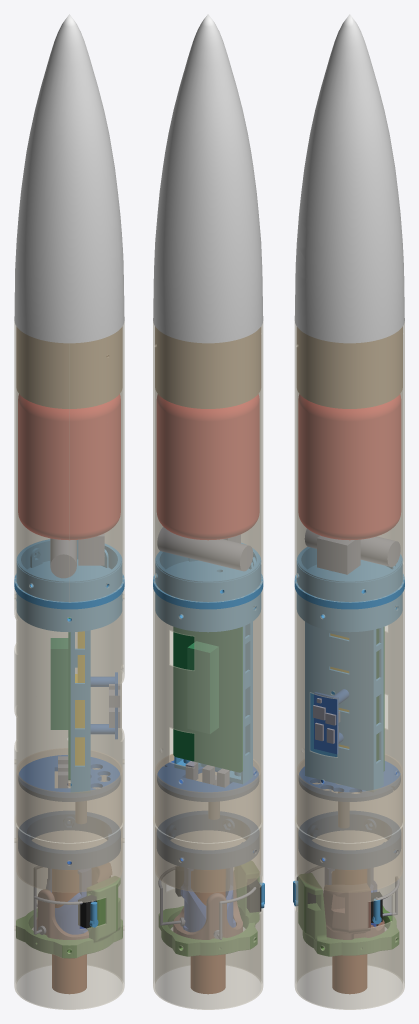
File: Kartonaut1_Stand2b.glb
3 renders of one model, left to right at view 1: azimuth 90°, elevation 25°; view 2: azimuth 150°, elevation 25°; view 3: azimuth 330°, elevation 25°, orthographic.
Visible parts, largest first — view 1: 02 Rohr C (Bergung), 34 Spitze Klima 8539, 01 Rohr B 176 (Avionik), 00 Rohr A 125 (Kardan, gebaut), 31 Fallschirm (gepackt 100 Ã Ã 70), 03 Kuppler J1 75 (in B verklebt), 13 Schlitten mit Spant, 32 Spitze Schulter (Klima), 04 Schraubring J1, Kardan gedruckt: Outer_Gimbal_1.001, 14 Untere Scheibe, 06 Motor TSP E12-0 (+10 smaller); view 2: 02 Rohr C (Bergung), 34 Spitze Klima 8539, 01 Rohr B 176 (Avionik), 00 Rohr A 125 (Kardan, gebaut), 31 Fallschirm (gepackt 100 Ã Ã 70), 03 Kuppler J1 75 (in B verklebt), 13 Schlitten mit Spant, 32 Spitze Schulter (Klima), 21 Platine rev B1, 04 Schraubring J1, Kardan gedruckt: Outer_Gimbal_1.001, 22 Teensy 4.1 (+6 smaller); view 3: 02 Rohr C (Bergung), 34 Spitze Klima 8539, 01 Rohr B 176 (Avionik), 00 Rohr A 125 (Kardan, gebaut), 13 Schlitten mit Spant, 31 Fallschirm (gepackt 100 Ã Ã 70), 03 Kuppler J1 75 (in B verklebt), 32 Spitze Schulter (Klima), 04 Schraubring J1, Kardan gedruckt: Outer_Gimbal_1.001, Kardan gedruckt: Inner_Gimbal.002, 30 COâ-Modul (Kapsel quer, Servo-AuslÃ¶sung) (+4 smaller).
Boxes of the visible parts, left/top/right/bottom form: 02 Rohr C (Bergung): left=14, top=321, right=124, bottom=602; 34 Spitze Klima 8539: left=14, top=14, right=124, bottom=343; 01 Rohr B 176 (Avionik): left=14, top=587, right=124, bottom=843; 00 Rohr A 125 (Kardan, gebaut): left=14, top=816, right=124, bottom=1009; 31 Fallschirm (gepackt 100 Ã Ã 70): left=18, top=394, right=120, bottom=539; 03 Kuppler J1 75 (in B verklebt): left=16, top=748, right=122, bottom=892; 13 Schlitten mit Spant: left=14, top=539, right=124, bottom=792; 32 Spitze Schulter (Klima): left=16, top=327, right=122, bottom=408; 04 Schraubring J1: left=18, top=811, right=120, bottom=869; Kardan gedruckt: Outer_Gimbal_1.001: left=16, top=876, right=122, bottom=958; 14 Untere Scheibe: left=19, top=755, right=119, bottom=801; 06 Motor TSP E12-0: left=52, top=869, right=86, bottom=993; 02 Rohr C (Bergung): left=153, top=321, right=263, bottom=602; 34 Spitze Klima 8539: left=153, top=14, right=263, bottom=343; 01 Rohr B 176 (Avionik): left=153, top=587, right=263, bottom=843; 00 Rohr A 125 (Kardan, gebaut): left=153, top=815, right=263, bottom=1009; 31 Fallschirm (gepackt 100 Ã Ã 70): left=157, top=394, right=259, bottom=539; 03 Kuppler J1 75 (in B verklebt): left=155, top=754, right=260, bottom=892; 13 Schlitten mit Spant: left=153, top=543, right=263, bottom=783; 32 Spitze Schulter (Klima): left=155, top=327, right=260, bottom=408; 21 Platine rev B1: left=173, top=627, right=242, bottom=772; 04 Schraubring J1: left=157, top=811, right=258, bottom=869; Kardan gedruckt: Outer_Gimbal_1.001: left=159, top=861, right=259, bottom=956; 22 Teensy 4.1: left=187, top=641, right=218, bottom=733; 02 Rohr C (Bergung): left=294, top=321, right=404, bottom=602; 34 Spitze Klima 8539: left=294, top=14, right=404, bottom=343; 01 Rohr B 176 (Avionik): left=294, top=587, right=404, bottom=843; 00 Rohr A 125 (Kardan, gebaut): left=294, top=815, right=404, bottom=1009; 13 Schlitten mit Spant: left=294, top=547, right=404, bottom=791; 31 Fallschirm (gepackt 100 Ã Ã 70): left=298, top=394, right=400, bottom=539; 03 Kuppler J1 75 (in B verklebt): left=297, top=754, right=402, bottom=892; 32 Spitze Schulter (Klima): left=297, top=327, right=402, bottom=408; 04 Schraubring J1: left=299, top=811, right=400, bottom=869; Kardan gedruckt: Outer_Gimbal_1.001: left=298, top=873, right=399, bottom=956; Kardan gedruckt: Inner_Gimbal.002: left=323, top=884, right=384, bottom=939; 30 COâ-Modul (Kapsel quer, Servo-AuslÃ¶sung): left=305, top=529, right=400, bottom=574.
Bounding box in the file's own units: 75 × 731 × 75.
